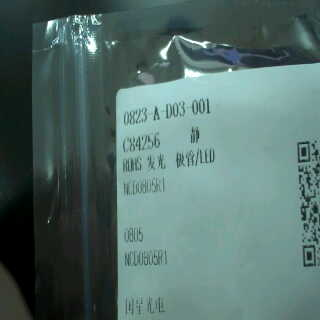LED: (144, 145, 219, 172)
